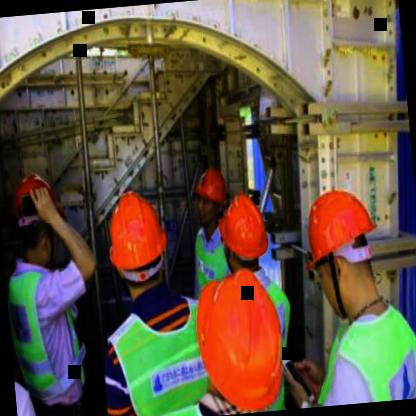helmet: (188, 262, 296, 416), (294, 180, 390, 318), (100, 186, 178, 306), (4, 166, 68, 270), (216, 192, 272, 284), (188, 166, 231, 233)
